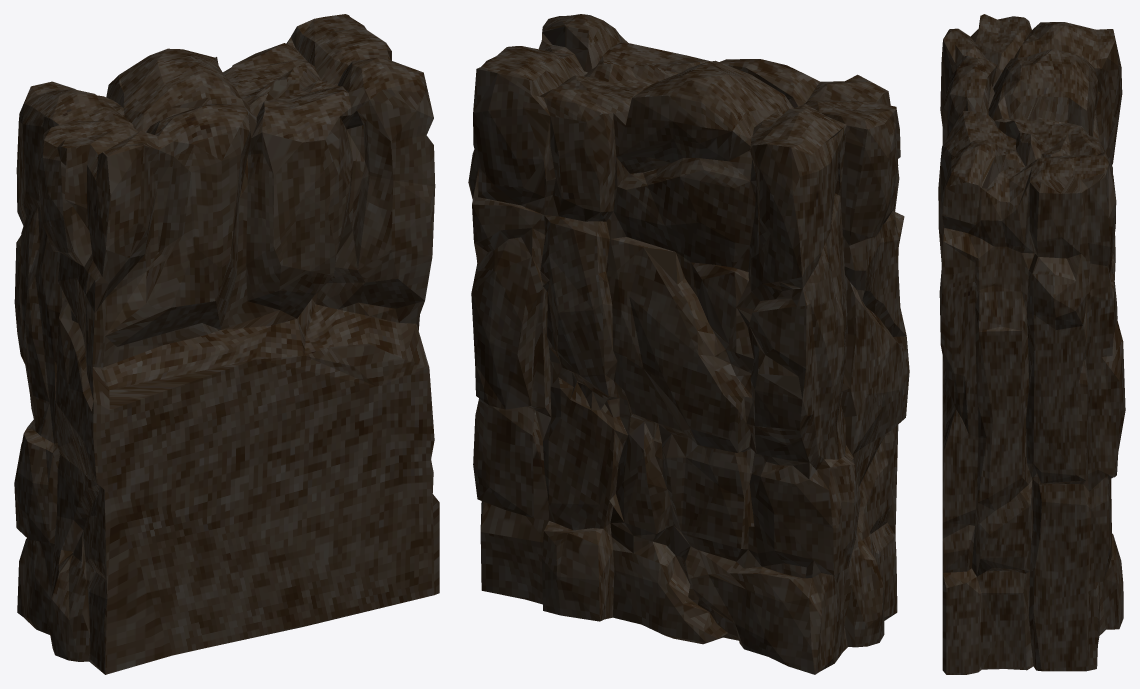
File: cave-wall1.glb
The picture shows the model from 3 angles, left to right: view 1: azimuth 30°, elevation 25°; view 2: azimuth 150°, elevation 25°; view 3: azimuth 270°, elevation 25°; orthographic projection. The views are drawn at different scales.
Visible parts, largest first — view 1: Cube; view 2: Cube; view 3: Cube.
Boxes of the visible parts, <box> form: Cube: <box>14,14,439,674</box>; Cube: <box>468,14,909,674</box>; Cube: <box>938,14,1125,674</box>.
Size of the model in its own units: 4.67 by 6.34 by 2.06.
Materials: 1 (1 with a texture image).
